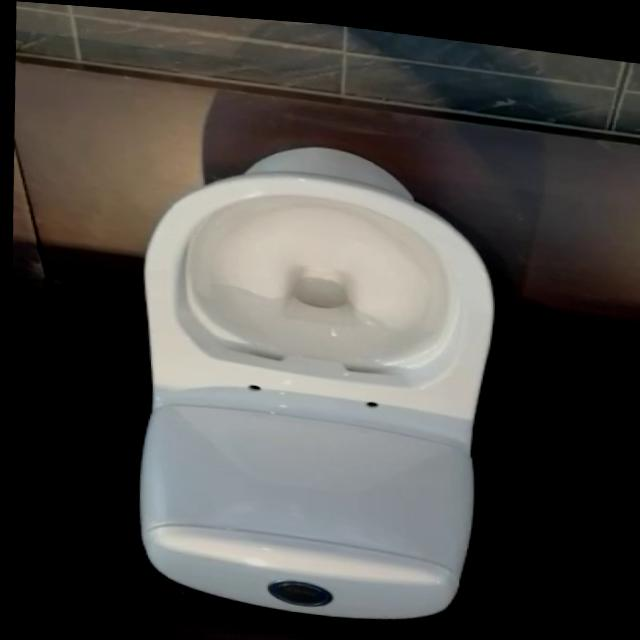toilet: (116, 121, 510, 632)
